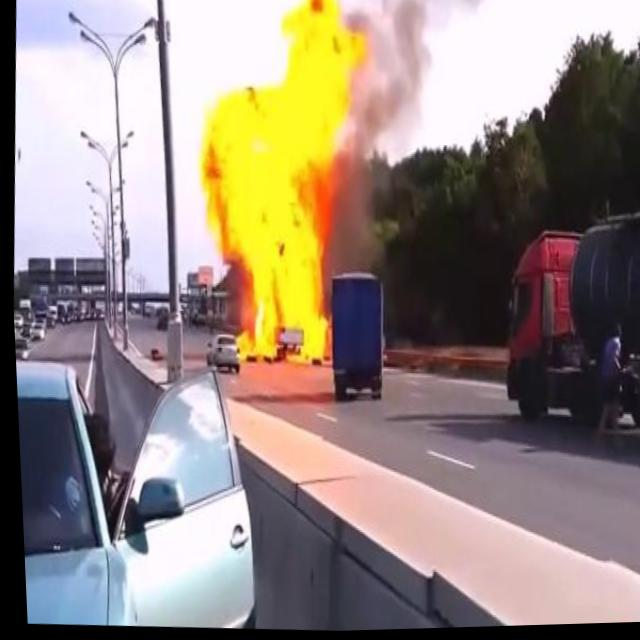fire: (183, 0, 381, 376)
